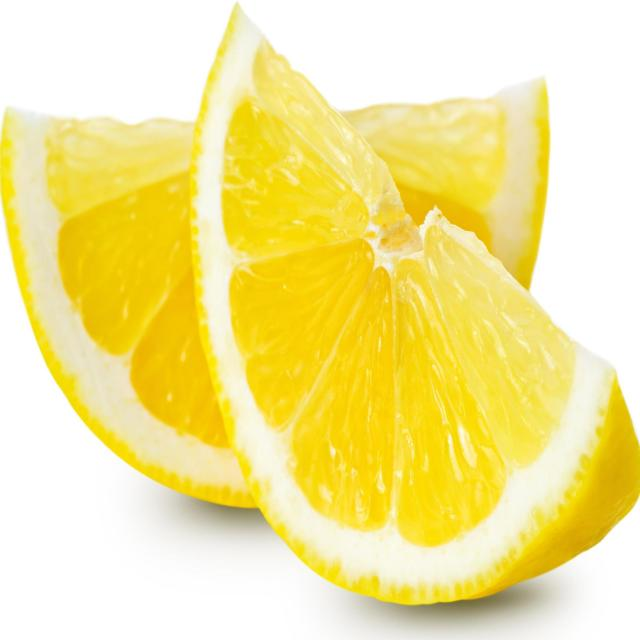lemon: (0, 0, 640, 630)
